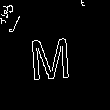M_N: (32, 28, 78, 82)
